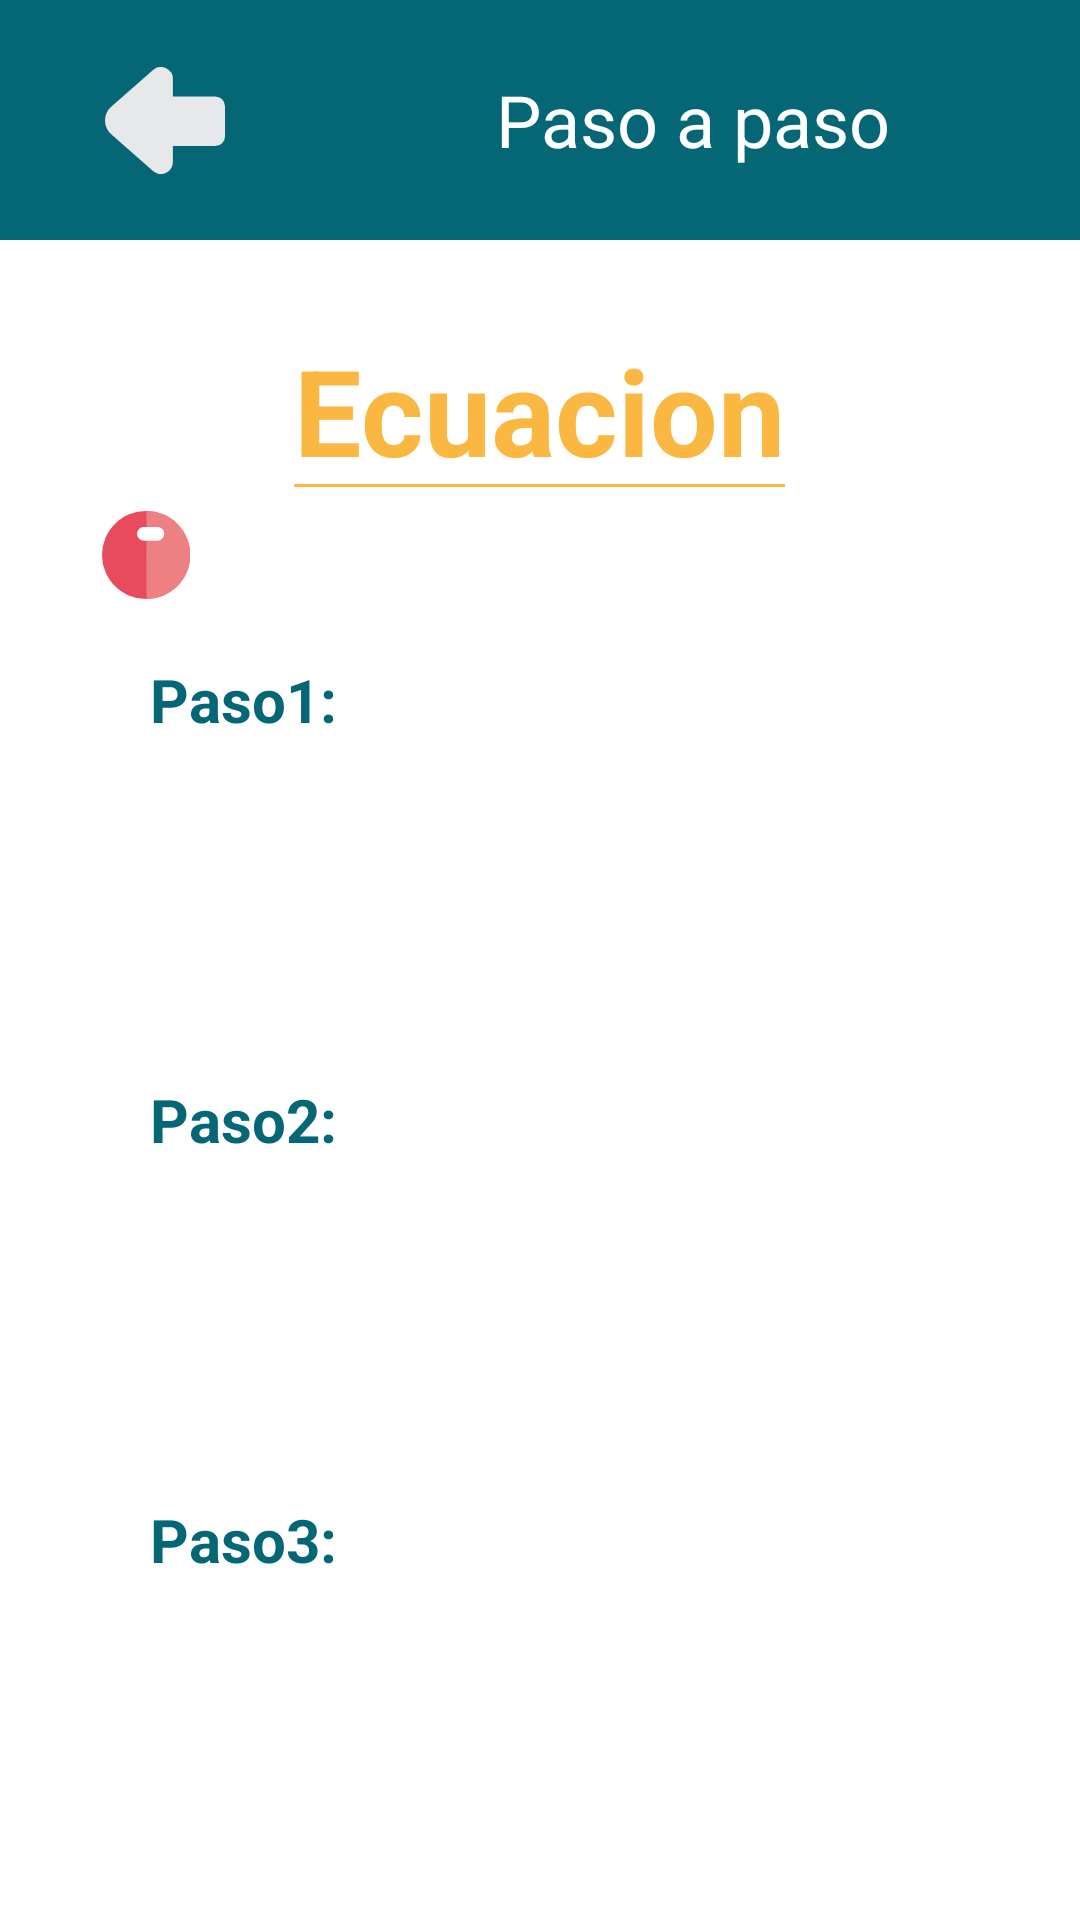

Screen size 1080w x 1920h. Icon name, then its center in pixels as point (x, y):
circulo rojo: point (146, 555)
flechaatras: point (165, 120)
